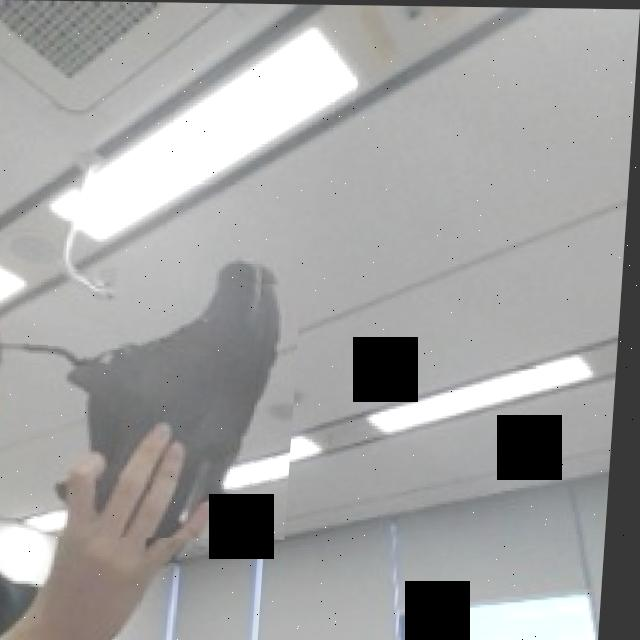shoe: (13, 267, 306, 539)
